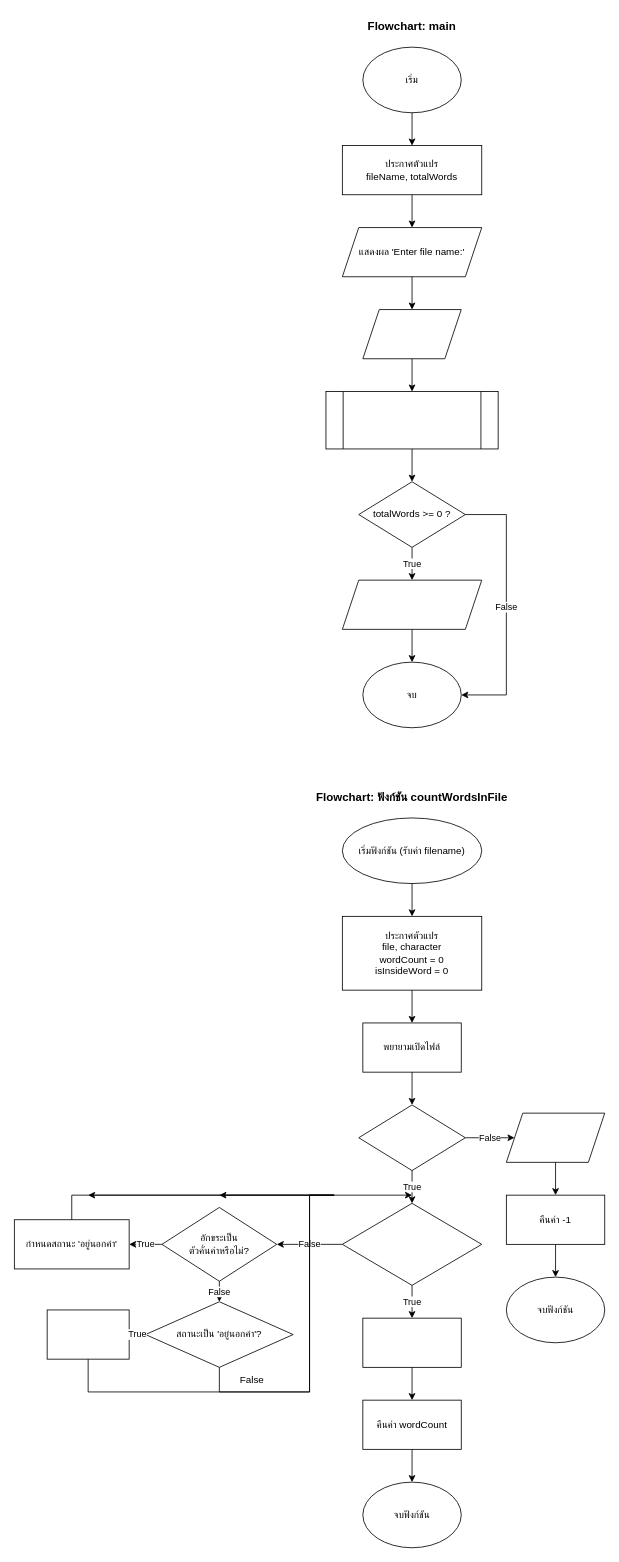
Some shapes in this 619 by 1562 pixel diagram are drawn without their labels. Each missing label, with the centre of its shape:
"นับคำเพิ่ม 1 กำหนดสถานะ 'อยู่ในคำ'" goes at (87,1334).
"ปิดไฟล์" goes at (411,1342).
"รับค่า fileName" goes at (411,334).
"อ่านอักขระถัดไป จบไฟล์แล้วหรือยัง?" goes at (412,1244).
"เปิดไฟล์สำเร็จ?" goes at (411,1137).
"เรียกใช้ฟังก์ชัน countWordsInFile และเก็บผลลัพธ์ใน totalWords" goes at (411,420).
"แสดงข้อผิดพลาด" goes at (555,1137).
"แสดงผลจำนวนคำทั้งหมด" goes at (412,604).
